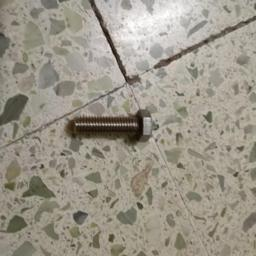screwtype2silver: (71, 108, 154, 146)
